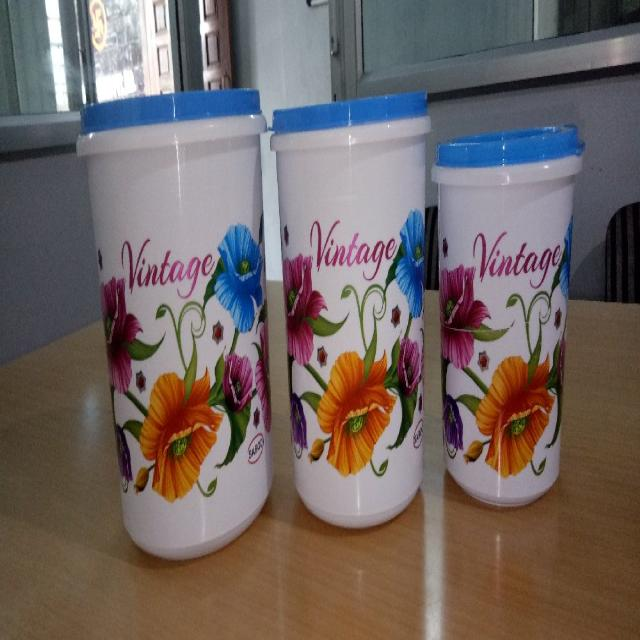plastic_box: (67, 65, 283, 565), (264, 83, 436, 539), (432, 101, 592, 528)
